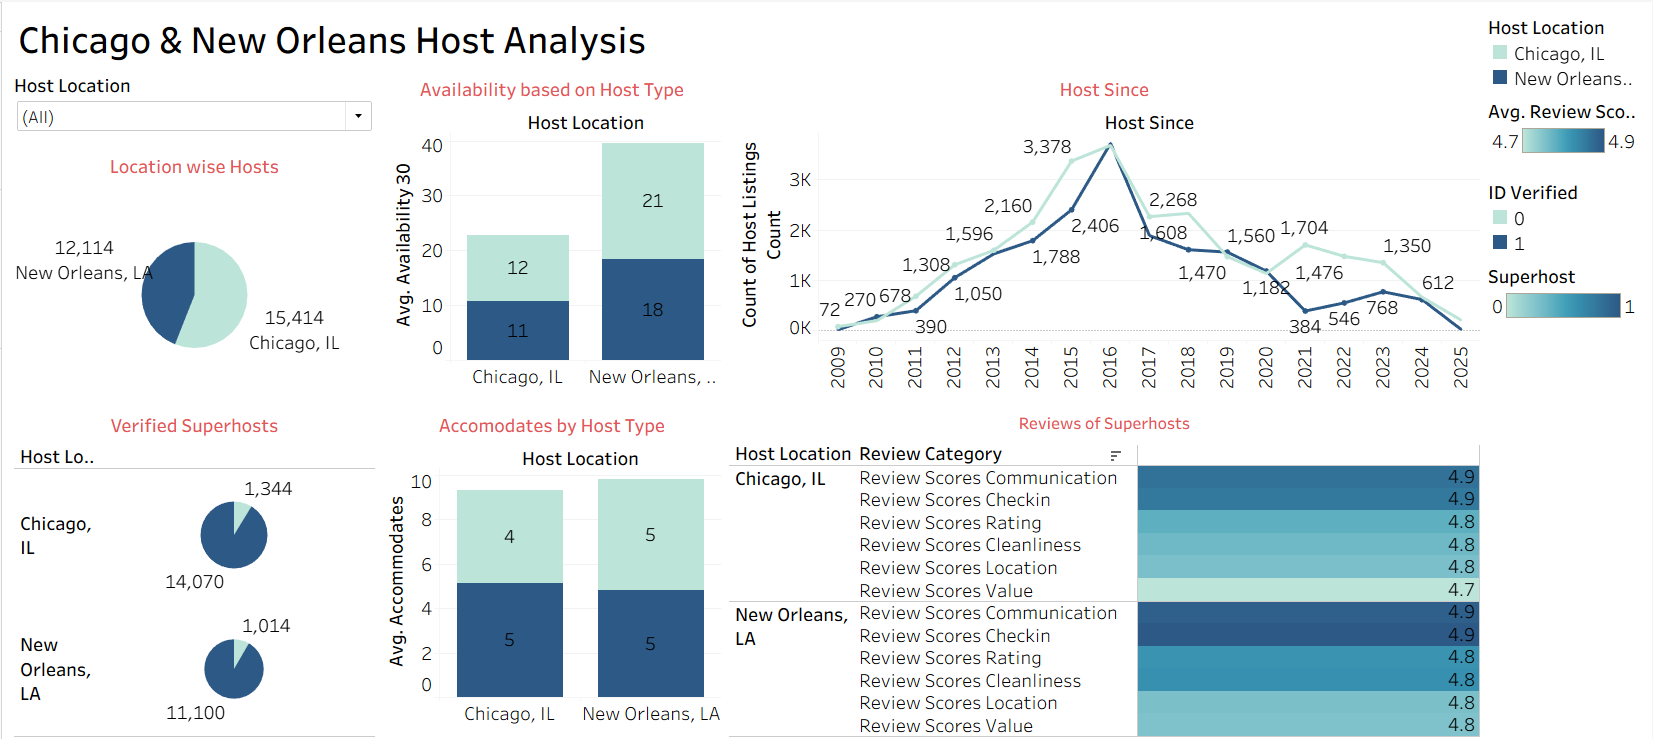

The page's visual inventory and layout, read from the dashboard file:
{"tool":"tableau","page":{"name":"DB - Host Analysis","canvas":[1000,1000],"units":"permille","ordinal":0},"visuals":[{"type":"title","box":[4.9,11,893.2,79.5]},{"type":"legend","title":"Location wise Hosts","param":"[federated.1dk3tz613rppmf14h9z8i1sxdjd3].[none:host_location:nk]","box":[898.1,11,97.1,115.1]},{"type":"filter","title":"Location wise Hosts","param":"[federated.1dk3tz613rppmf14h9z8i1sxdjd3].[none:host_location:nk]","box":[4.9,90.4,223.3,102.7]},{"type":"worksheet","title":"Availability based on Host Type","mark":"Automatic","rows":["availability_30"],"cols":["host_location"],"box":[228.2,90.4,210,449.3]},{"type":"worksheet","title":"Host Since","mark":"Automatic","rows":["host_listings_count"],"cols":["host_since"],"box":[438.1,90.4,459.9,449.3]},{"type":"legend","title":"Reviews of Superhosts","param":"[federated.1dk3tz613rppmf14h9z8i1sxdjd3].[avg:Pivot Field Values:qk]","box":[898.1,126,97.1,111]},{"type":"worksheet","title":"Location wise Hosts","mark":"Pie","box":[4.9,193.2,223.3,346.6]},{"type":"legend","title":"Verified Superhosts","param":"[federated.1dk3tz613rppmf14h9z8i1sxdjd3].[none:ID Verified:ok]","box":[898.1,237,97.1,115.1]},{"type":"legend","title":"Availability based on Host Type","param":"[federated.1dk3tz613rppmf14h9z8i1sxdjd3].[none:Superhost:qk]","box":[898.1,352.1,97.1,111]},{"type":"worksheet","title":"Verified Superhosts","mark":"Pie","rows":["host_location"],"box":[4.9,539.7,223.3,449.3]},{"type":"worksheet","title":"Accomodates by Host Type","mark":"Automatic","rows":["accommodates"],"cols":["host_location"],"box":[228.2,539.7,210,449.3]},{"type":"worksheet","title":"Reviews of Superhosts","mark":"Square","rows":["host_location","Pivot Field Names"],"box":[438.1,539.7,459.9,449.3]}]}

Visuals, with their boxes on the dashboard's canvas, which has no fixed pixel size, in thousandths of its width and height (x1, y1, x2, y2). These are canvas units, not pixel positions in the 1653x739 screenshot, which may show the page scaled, cropped or inside an application window:
title: 5 11 898 90
"Location wise Hosts" legend: 898 11 995 126
"Location wise Hosts" filter: 5 90 228 193
"Availability based on Host Type" worksheet: 228 90 438 540
"Host Since" worksheet: 438 90 898 540
"Reviews of Superhosts" legend: 898 126 995 237
"Location wise Hosts" worksheet (Pie marks): 5 193 228 540
"Verified Superhosts" legend: 898 237 995 352
"Availability based on Host Type" legend: 898 352 995 463
"Verified Superhosts" worksheet (Pie marks): 5 540 228 989
"Accomodates by Host Type" worksheet: 228 540 438 989
"Reviews of Superhosts" worksheet (Square marks): 438 540 898 989
